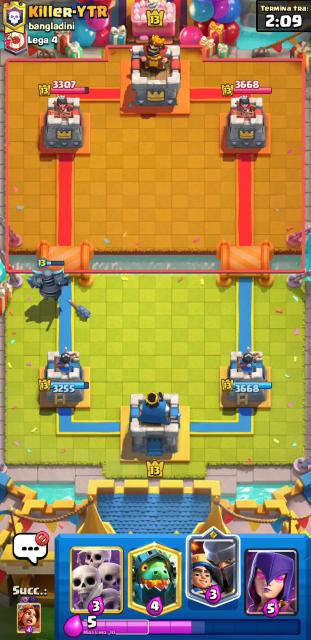ally_melee: (28, 257, 72, 303)
